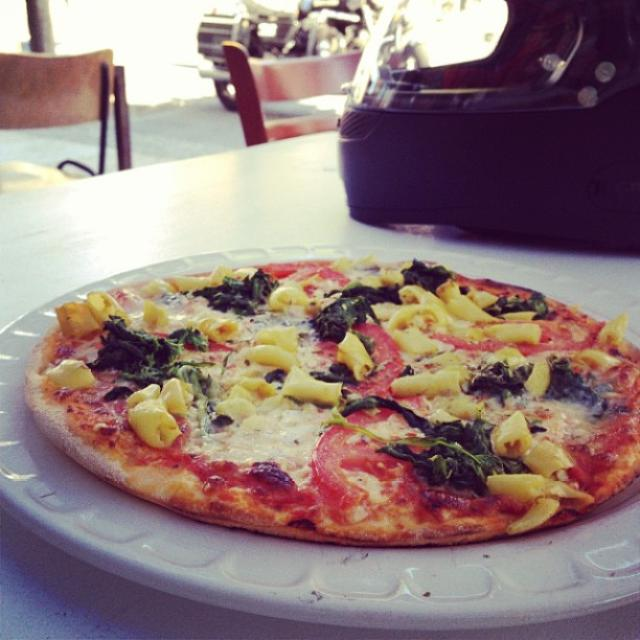motor: (200, 0, 361, 111)
